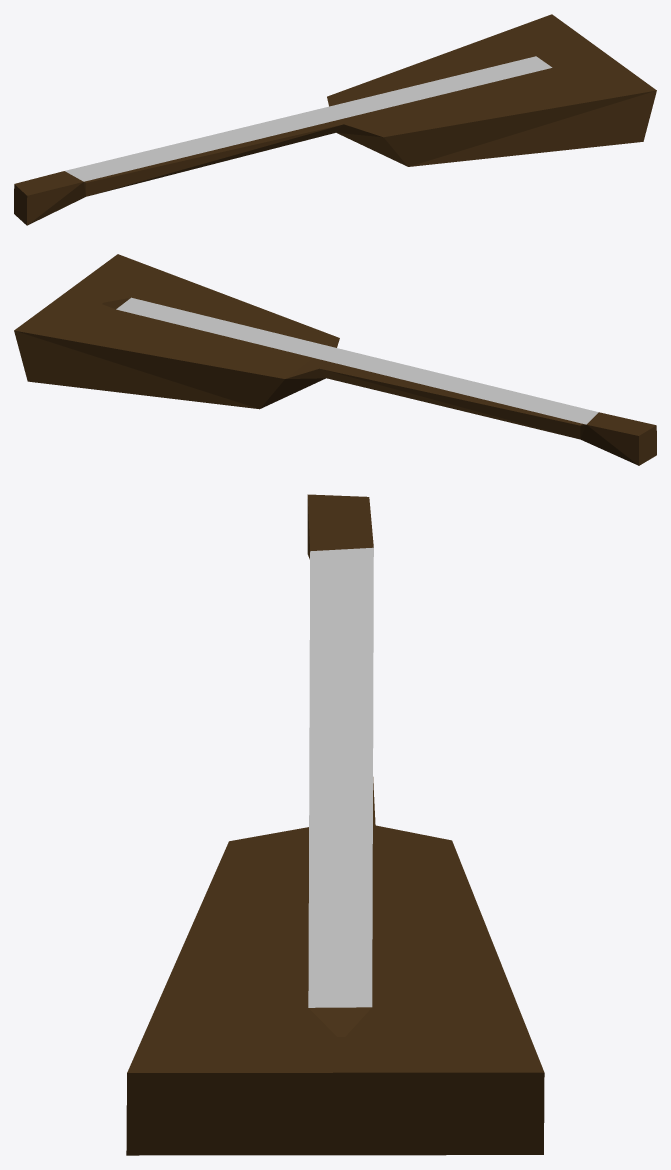
File: ITMI_CELLO_01.OBJ
The picture shows the model from 3 angles, top to bottom: view 1: azimuth 30°, elevation 25°; view 2: azimuth 150°, elevation 25°; view 3: azimuth 270°, elevation 25°; orthographic projection. The views are drawn at different scales.
Visible parts, largest first — view 1: ITMI_CELLO_01; view 2: ITMI_CELLO_01; view 3: ITMI_CELLO_01.
Boxes of the visible parts, x1=… form: ITMI_CELLO_01: x1=14, y1=14, x2=656, y2=225; ITMI_CELLO_01: x1=14, y1=254, x2=656, y2=465; ITMI_CELLO_01: x1=126, y1=494, x2=544, y2=1155.
Size of the model in its own units: 1.36 by 0.116 by 0.4215.
